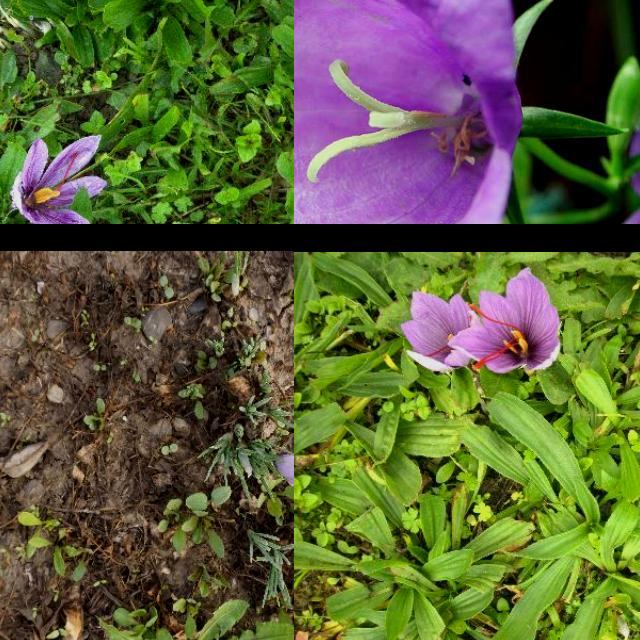flower: (448, 266, 562, 374), (11, 134, 109, 224), (400, 290, 480, 372), (276, 455, 294, 487)
